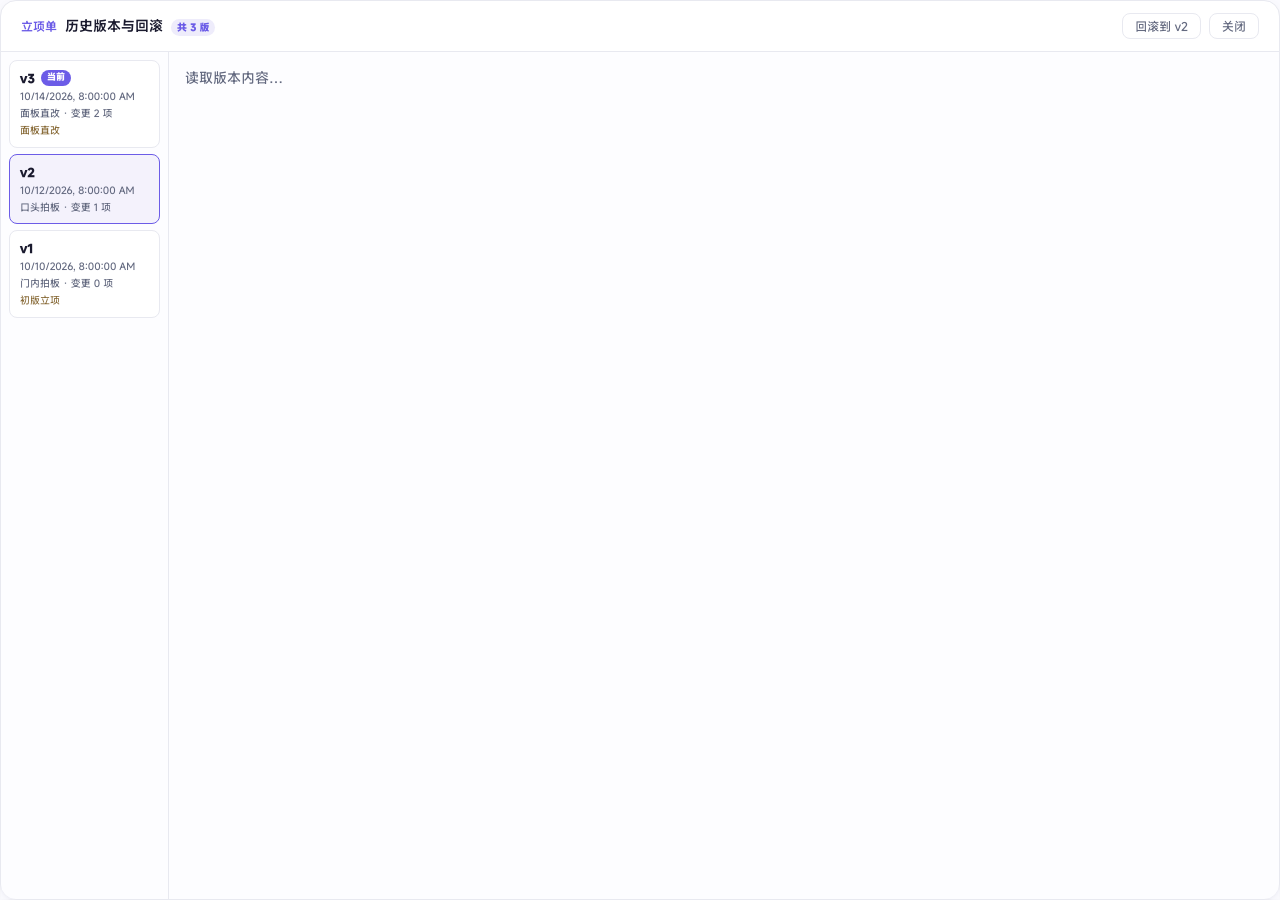
Test case: BriefHistoryView · 入口与 diff（AC6） › 选中当前最新版 → 摘要条显「该版本即当前最新」、回滚钮禁用、无高亮行
Step 1. Click the button with test id "brief-history-item" → (84, 104), box [9, 60, 160, 148]
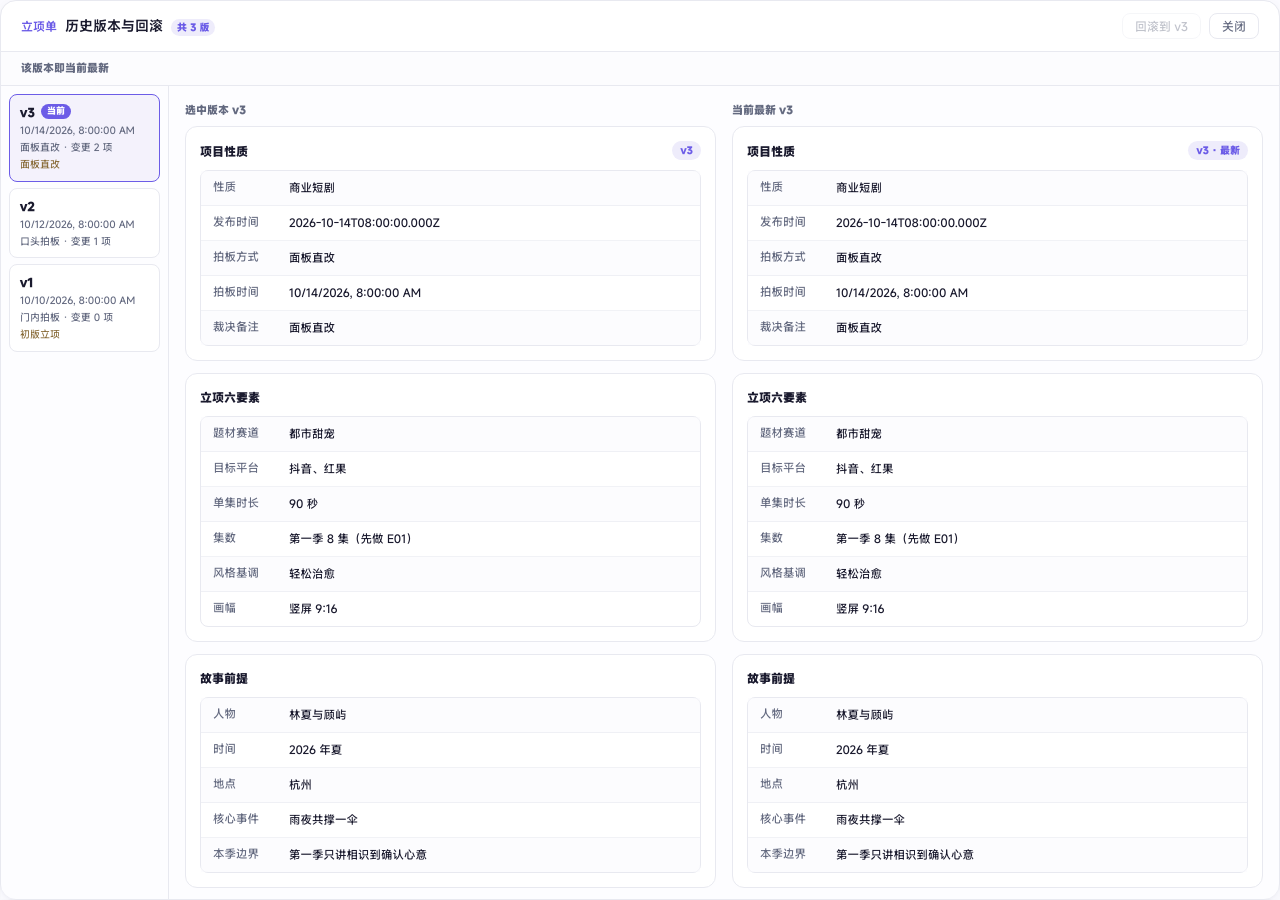
Now the text "该版本即当前最新" is shown, box [21, 61, 109, 75]
Now the button with test id "brief-history-rollback" is disabled, box [1122, 13, 1201, 39]
